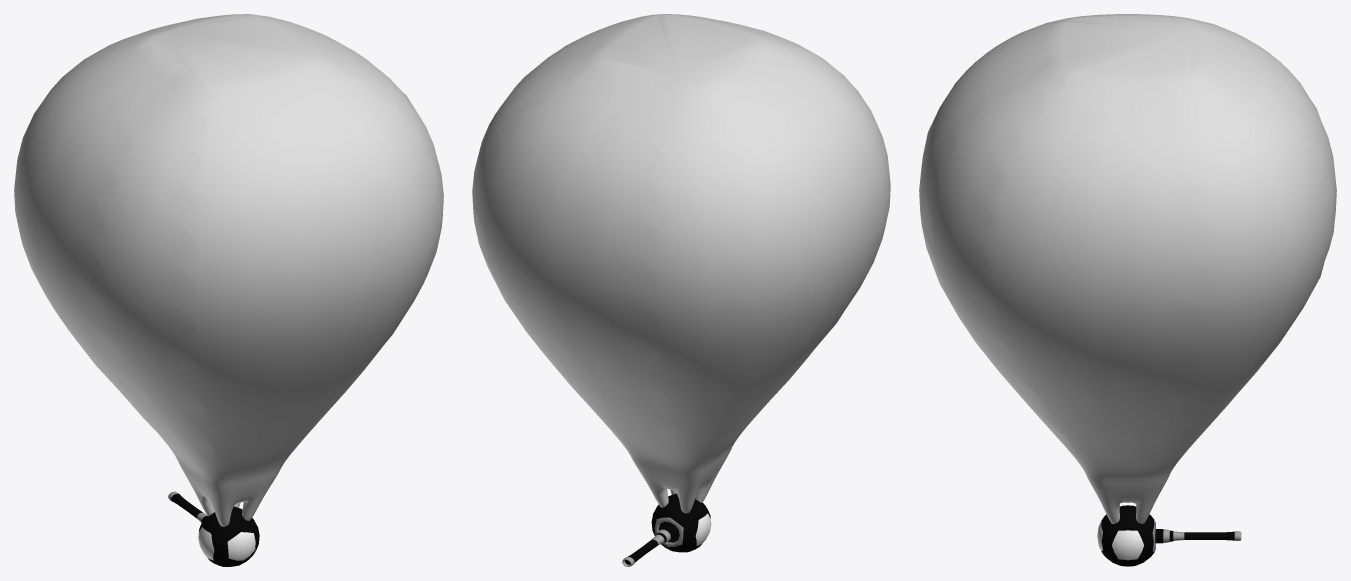
File: HotAirBaloon.fbx
The picture shows the model from 3 angles, left to right: view 1: azimuth 30°, elevation 25°; view 2: azimuth 150°, elevation 25°; view 3: azimuth 270°, elevation 25°; orthographic projection. The views are drawn at different scales.
Visible parts, largest first — view 1: Baloon, Gun; view 2: Baloon, Gun; view 3: Baloon, Gun.
Boxes of the visible parts, box(x1,y1,x2,y2) form: Baloon: box(14, 14, 443, 526); Gun: box(168, 491, 259, 566); Baloon: box(472, 14, 890, 513); Gun: box(622, 493, 711, 566); Baloon: box(919, 14, 1336, 523); Gun: box(1097, 505, 1241, 566).
Bounding box in the file's own units: 3.38 × 4.64 × 3.38.
